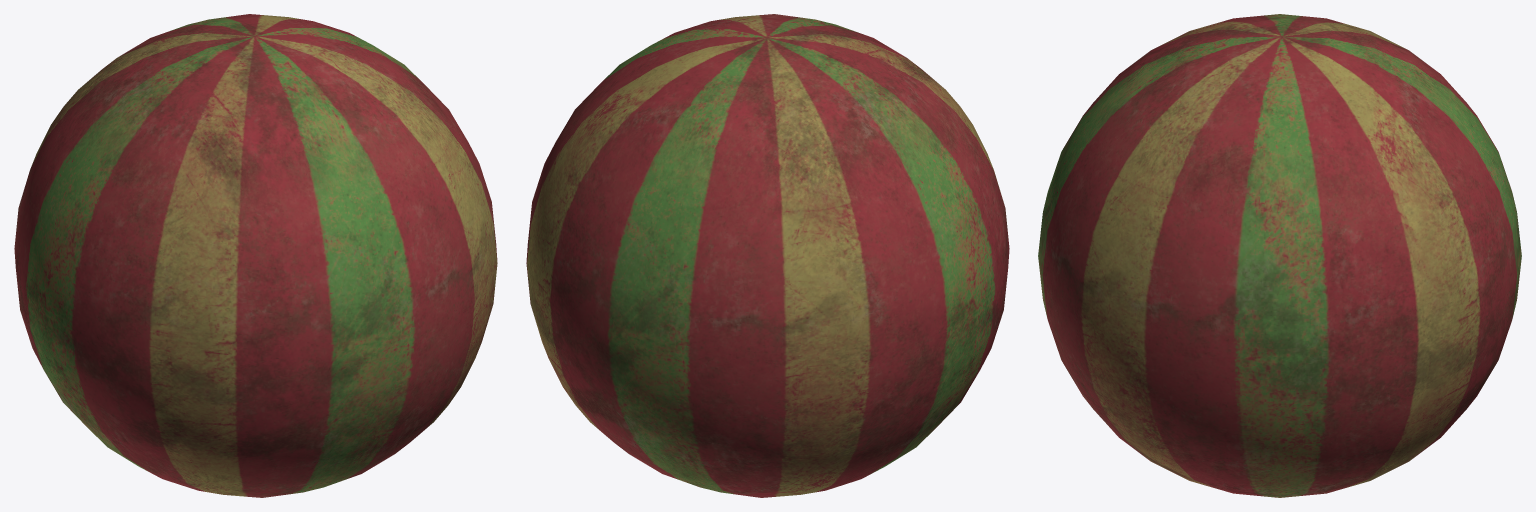
File: SM_CircusBall_B.fbx
3 views of the same model, side by side, from view 1: azimuth 30°, elevation 25°; view 2: azimuth 150°, elevation 25°; view 3: azimuth 270°, elevation 25° (orthographic).
Visible parts, largest first — view 1: SM_CircusBall_B_LOD0; view 2: SM_CircusBall_B_LOD0; view 3: SM_CircusBall_B_LOD0.
Part boxes in pixels (x1,y1,x2,y2): SM_CircusBall_B_LOD0: (14,14,497,497); SM_CircusBall_B_LOD0: (526,14,1009,497); SM_CircusBall_B_LOD0: (1038,14,1521,497).
Size of the model in its own units: 162 by 162 by 162.
Materials: 1 (1 with a texture image).
